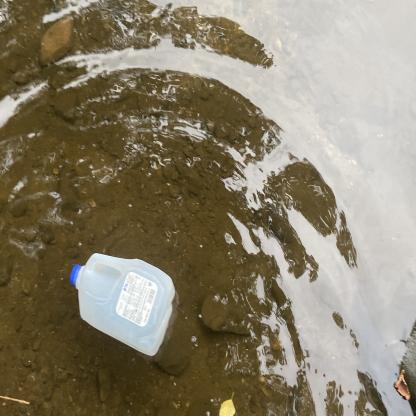trash: (64, 247, 182, 360)
